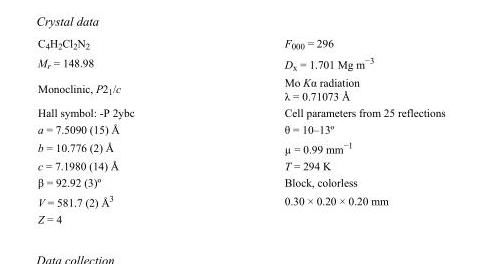table: (37, 36, 444, 224)
table column: (208, 36, 444, 224), (37, 36, 208, 224)
table row: (37, 73, 444, 103), (37, 52, 444, 73), (37, 137, 444, 157), (37, 190, 444, 210), (37, 103, 444, 120), (37, 120, 444, 137), (37, 173, 444, 190), (37, 36, 444, 52), (37, 157, 444, 173), (37, 210, 444, 224)
